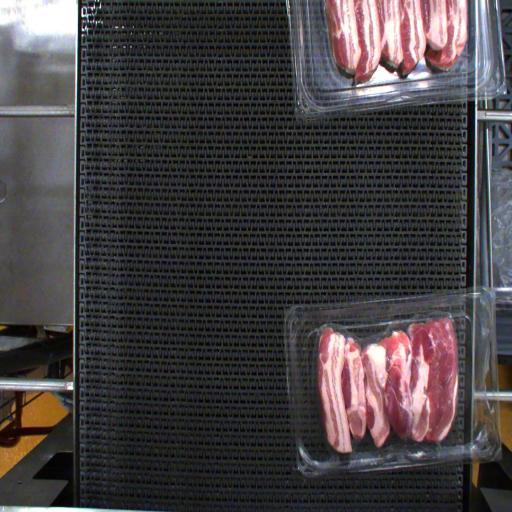packaging-error: (430, 438, 446, 456)
unsealed: (307, 304, 462, 352)
